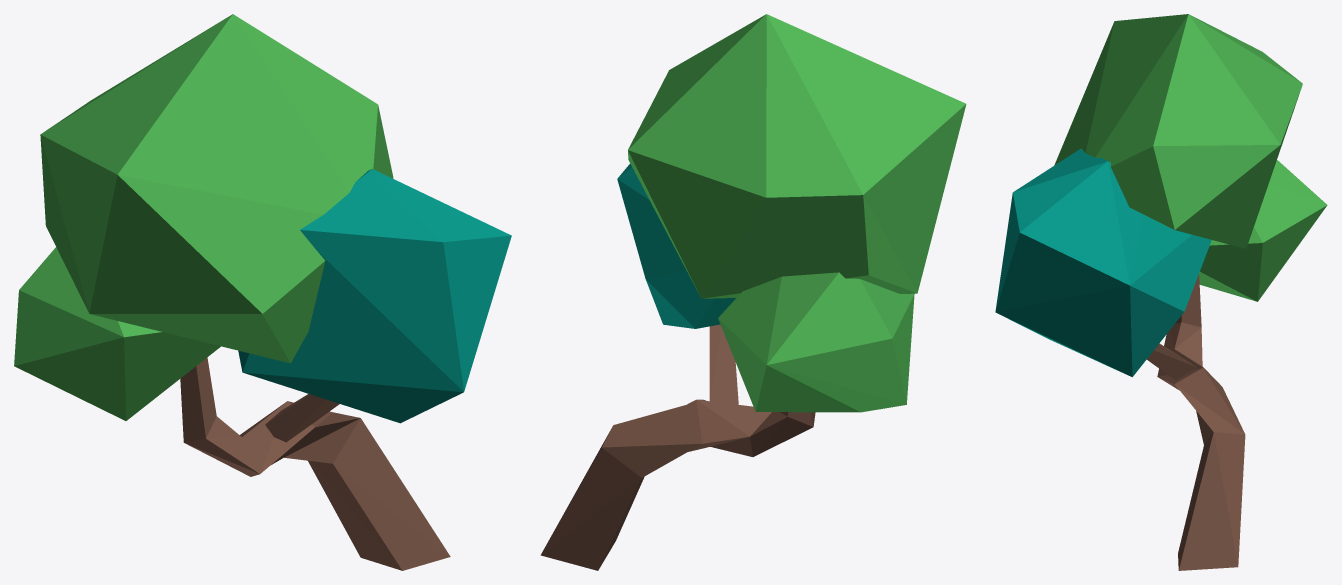
The model's file is Winding-Tree.glb.
3 renders of one model, left to right at view 1: azimuth 30°, elevation 25°; view 2: azimuth 150°, elevation 25°; view 3: azimuth 270°, elevation 25°, orthographic. The views are drawn at different scales.
Visible parts, largest first — view 1: group658525740, group639373663, group1683323162, group2127336260, group1076427462; view 2: group658525740, group2127336260, group1683323162, group639373663, group1076427462; view 3: group658525740, group639373663, group1683323162, group2127336260, group1076427462.
Part boxes in pixels (x1,y1,x2,y2): group658525740: (40, 14, 393, 363); group639373663: (238, 169, 511, 423); group1683323162: (180, 357, 450, 570); group2127336260: (14, 247, 220, 420); group1076427462: (265, 394, 339, 442); group658525740: (628, 14, 966, 298); group2127336260: (718, 272, 914, 412); group1683323162: (540, 399, 815, 570); group639373663: (617, 163, 735, 328); group1076427462: (709, 324, 738, 404); group658525740: (1054, 14, 1302, 248); group639373663: (995, 148, 1211, 377); group1683323162: (1157, 275, 1245, 570); group2127336260: (1199, 160, 1327, 301); group1076427462: (1147, 343, 1196, 380).
Bounding box in the file's own units: 0.8828 × 1.28 × 0.8027.
